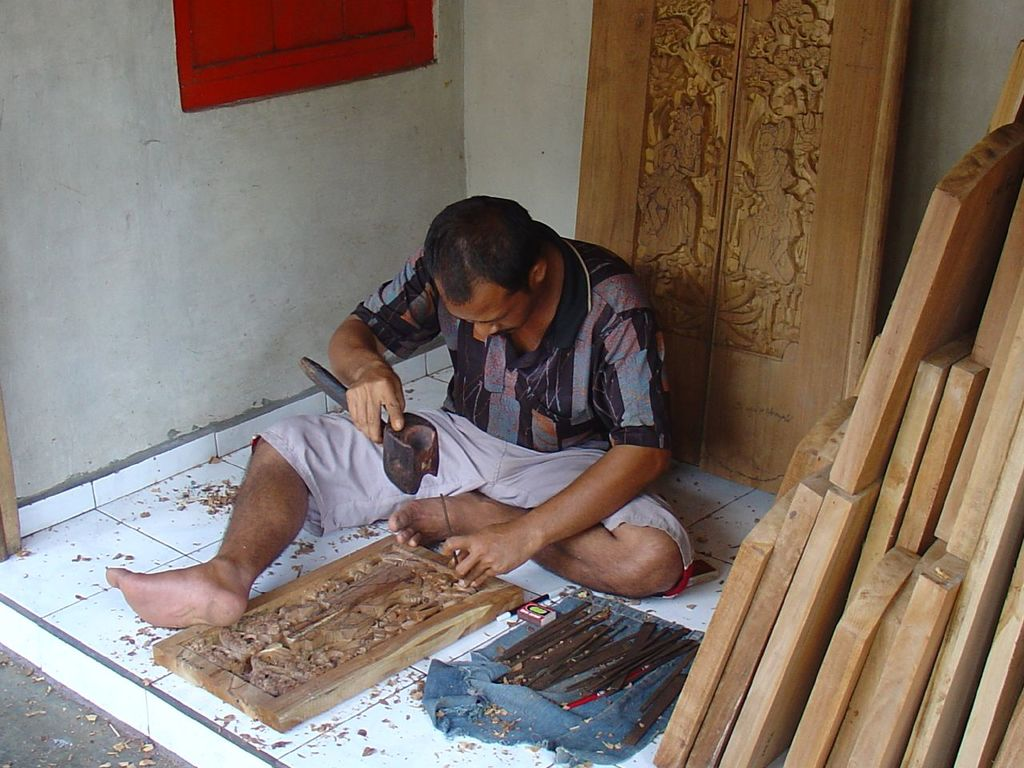face: (444, 273, 535, 340)
